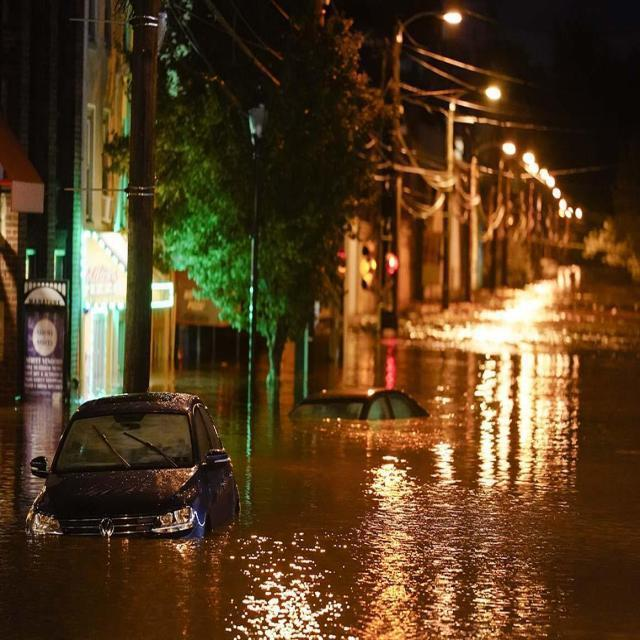water: (0, 281, 638, 638)
